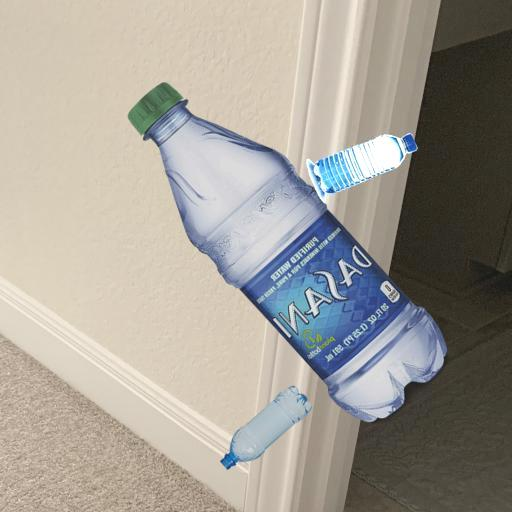bottle: (122, 76, 464, 430), (216, 378, 324, 476), (304, 124, 424, 200)
